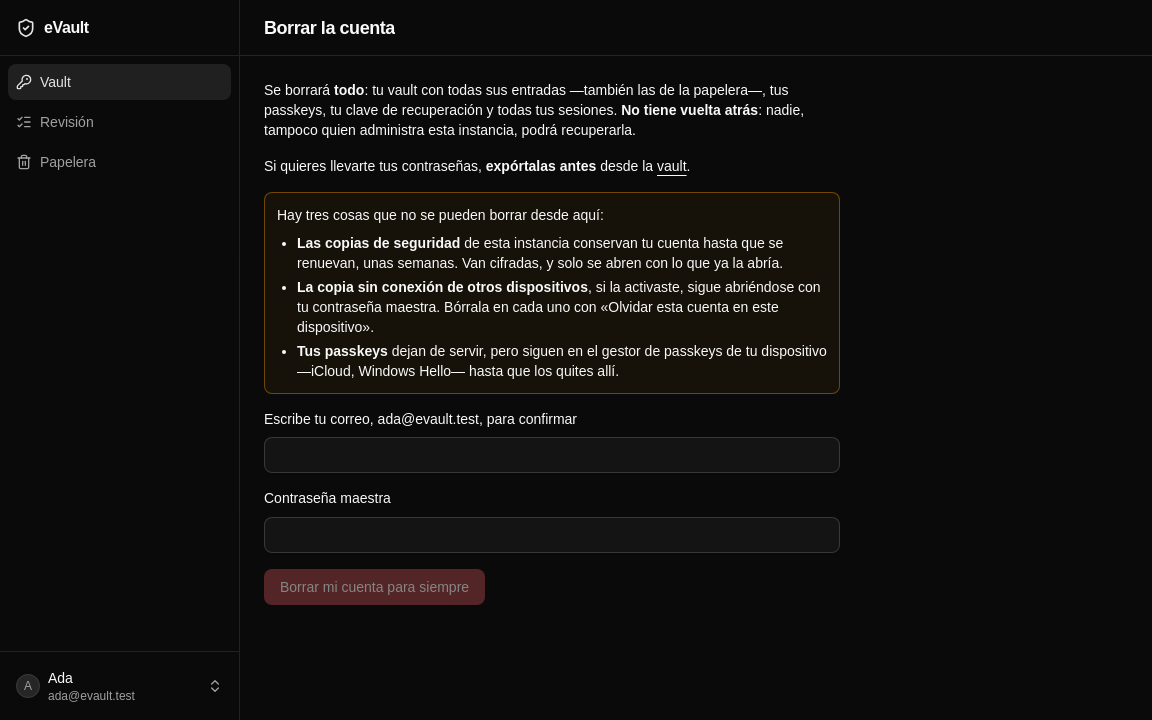
Test: the confirmation › stays shut until the account email and the master password are both there
Check: the button "Borrar mi cuenta para siempre" is disabled, box 264,568 -> 485,604
Type "otra@evault.test" into the field labelled "Escribe tu correo, ada@evault.test, para confirmar" at (552,455), box 264,437 -> 840,473
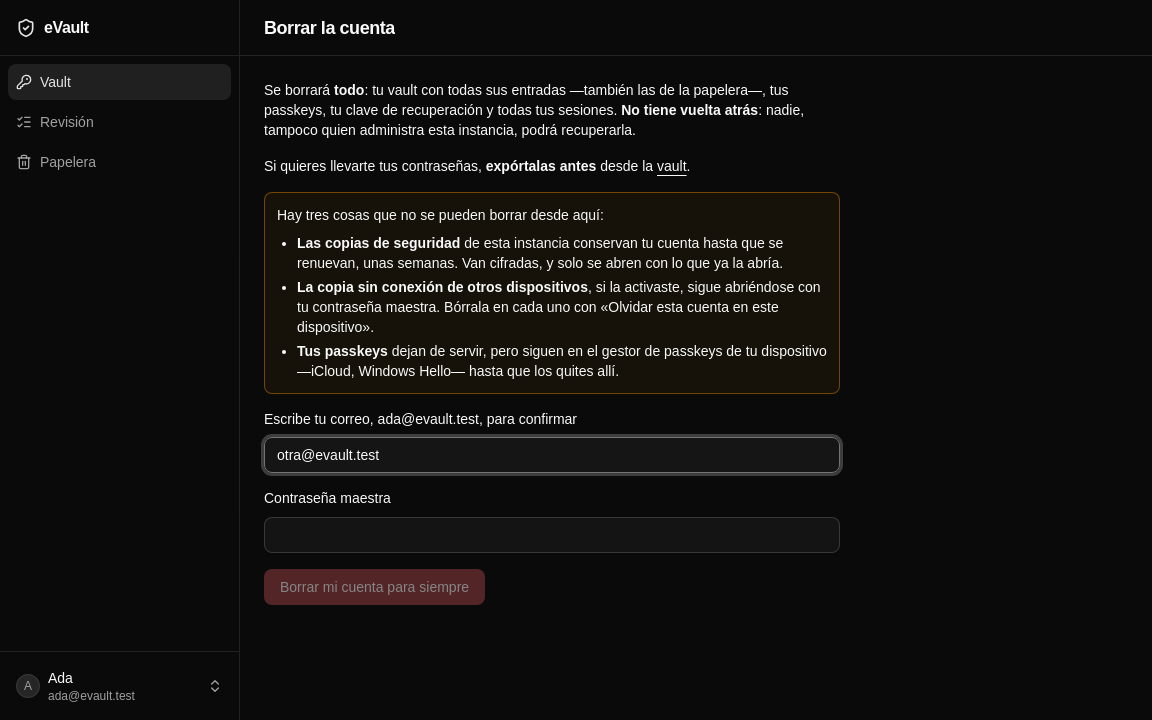
Type "maestra" into the password field labelled "Contraseña maestra" at (552,534), box 264,516 -> 840,552
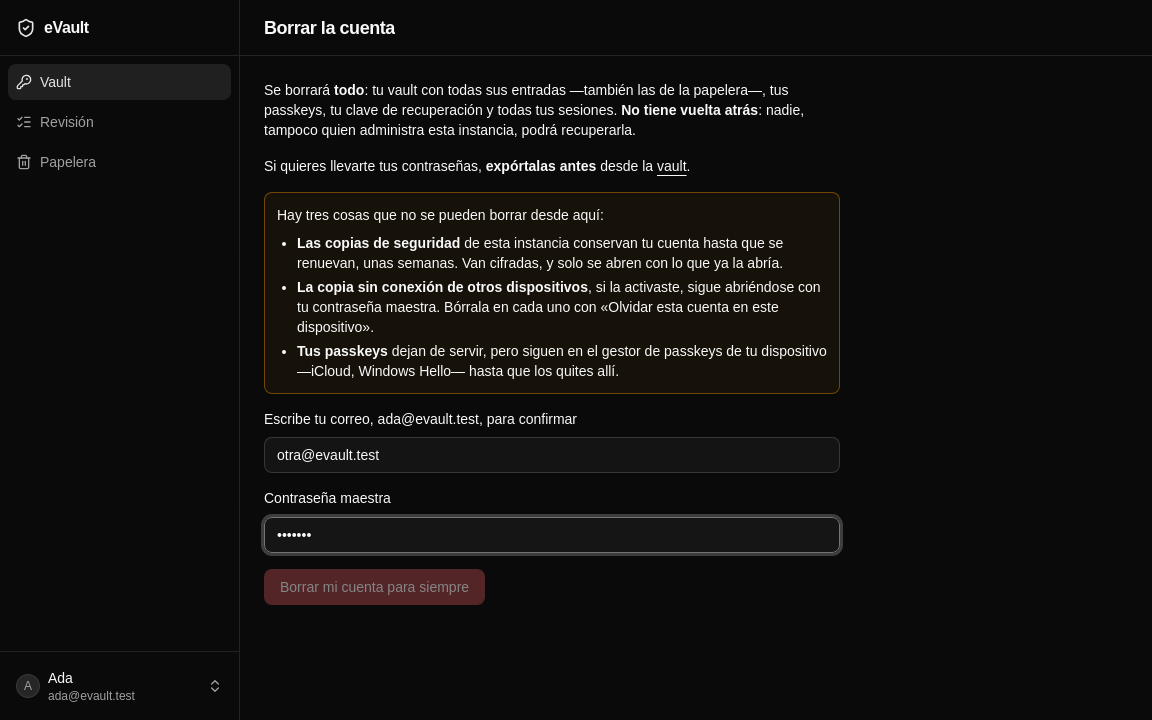
Check: the button "Borrar mi cuenta para siempre" is disabled, box 264,568 -> 485,604
Replace the text in the field labelled "Escribe tu correo, ada@evault.test, para confirmar" with "ada@evault.test" at (552,455), box 264,437 -> 840,473
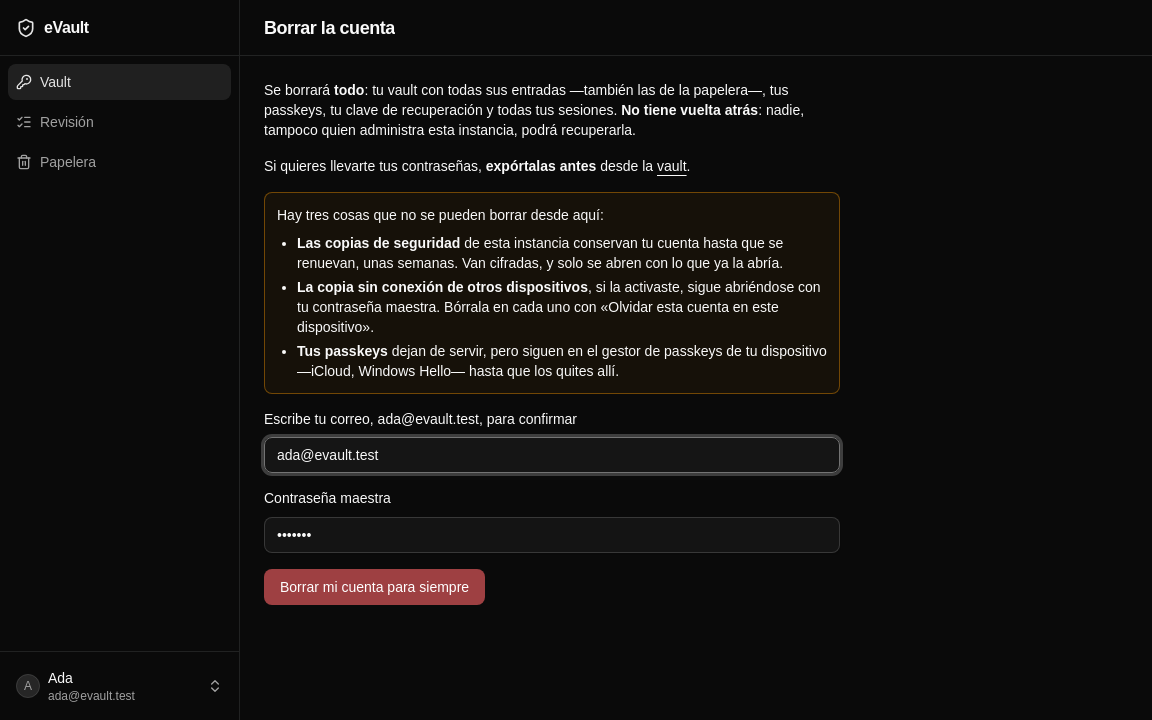
Check: the button "Borrar mi cuenta para siempre" is enabled, box 264,568 -> 485,604
